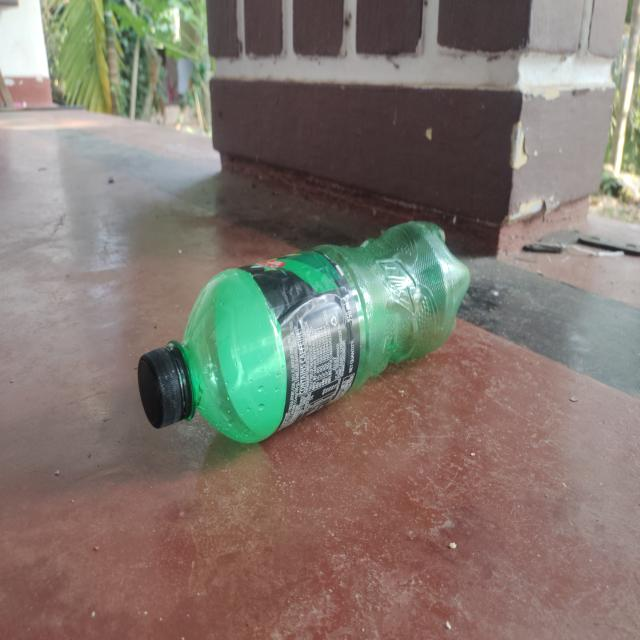plastic: (137, 215, 470, 444)
